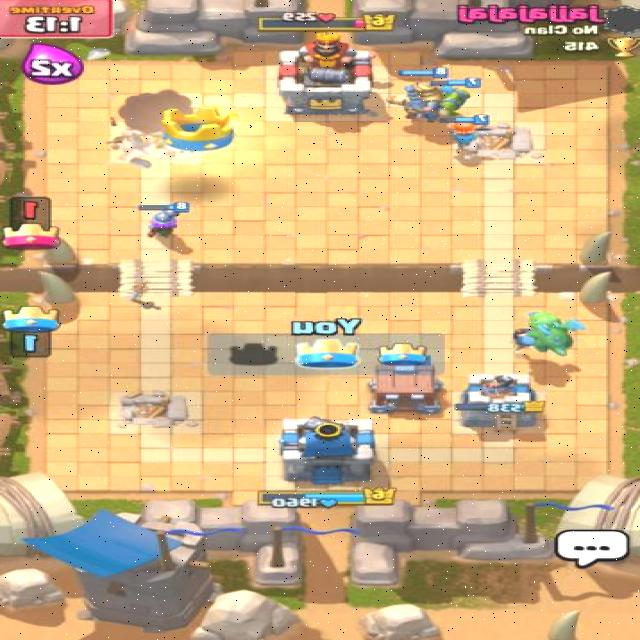Player-BabyDragon: (503, 307, 586, 362)
Player-Brawler: (426, 76, 484, 117)
Player-GoblinCage: (358, 359, 451, 417)
Player-Musketeer: (142, 201, 192, 240)
Player-Prince: (384, 65, 456, 124)
Player-Valkyrie: (442, 113, 492, 151)
